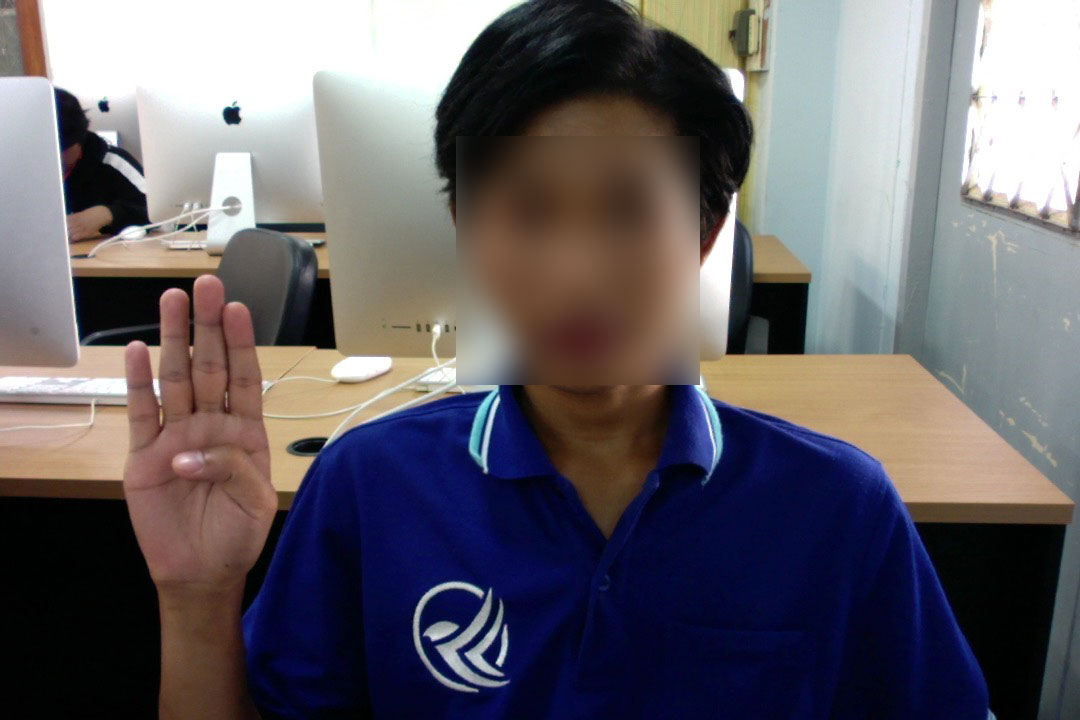bor: (112, 267, 284, 589)
